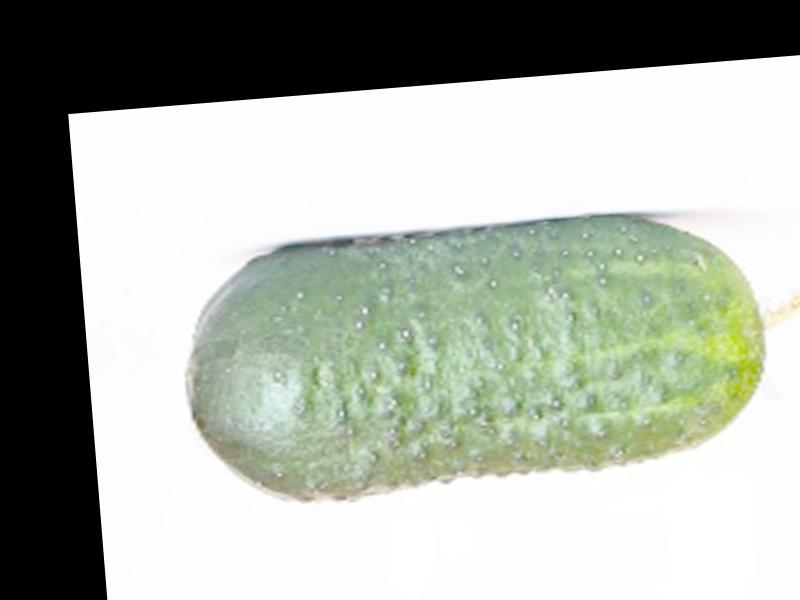Cucumber: (178, 196, 800, 516)
